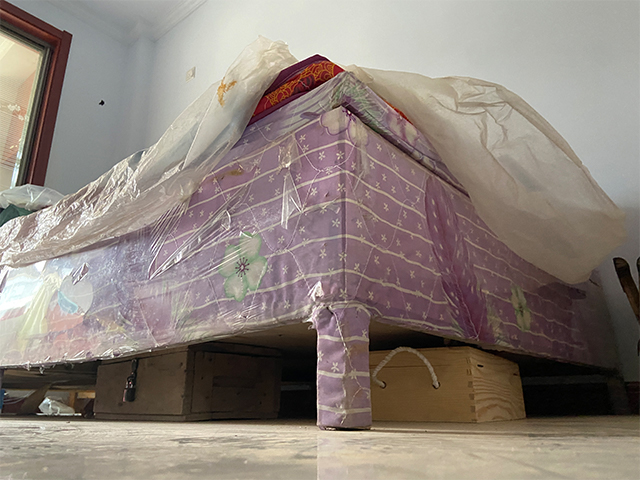bed: (1, 70, 633, 431)
